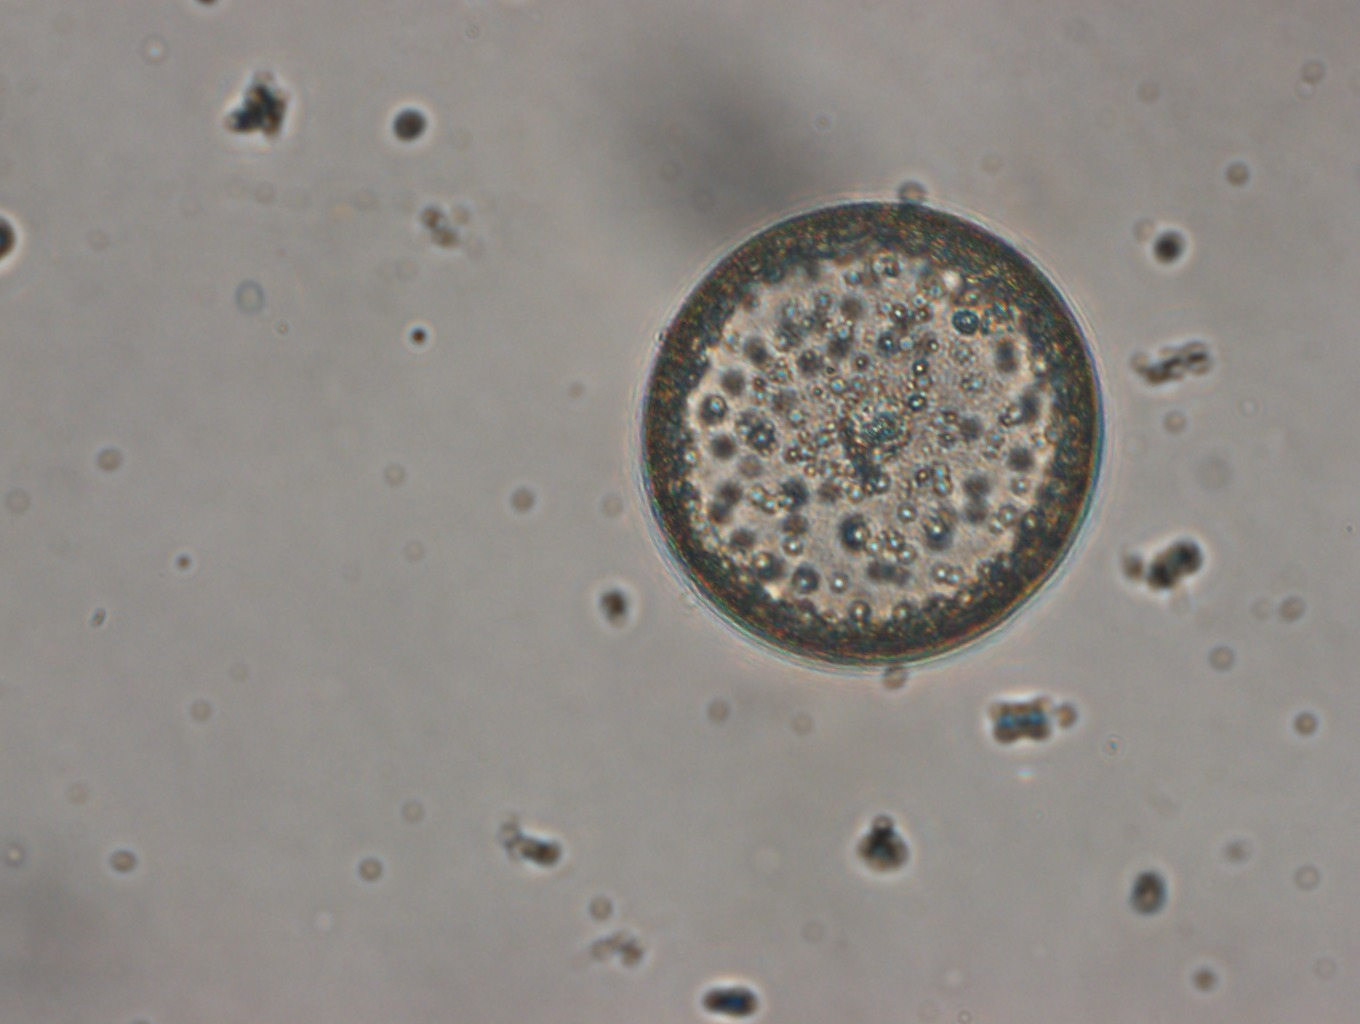coscinodiscus: (629, 182, 1117, 680)
